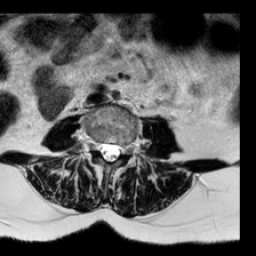CCS_normal: (106, 131, 112, 171)
LFS_normal: (120, 132, 130, 163)
LLS_normal: (112, 135, 122, 165)
RFS_normal: (90, 128, 98, 158)
RLS_normal: (98, 132, 106, 161)
